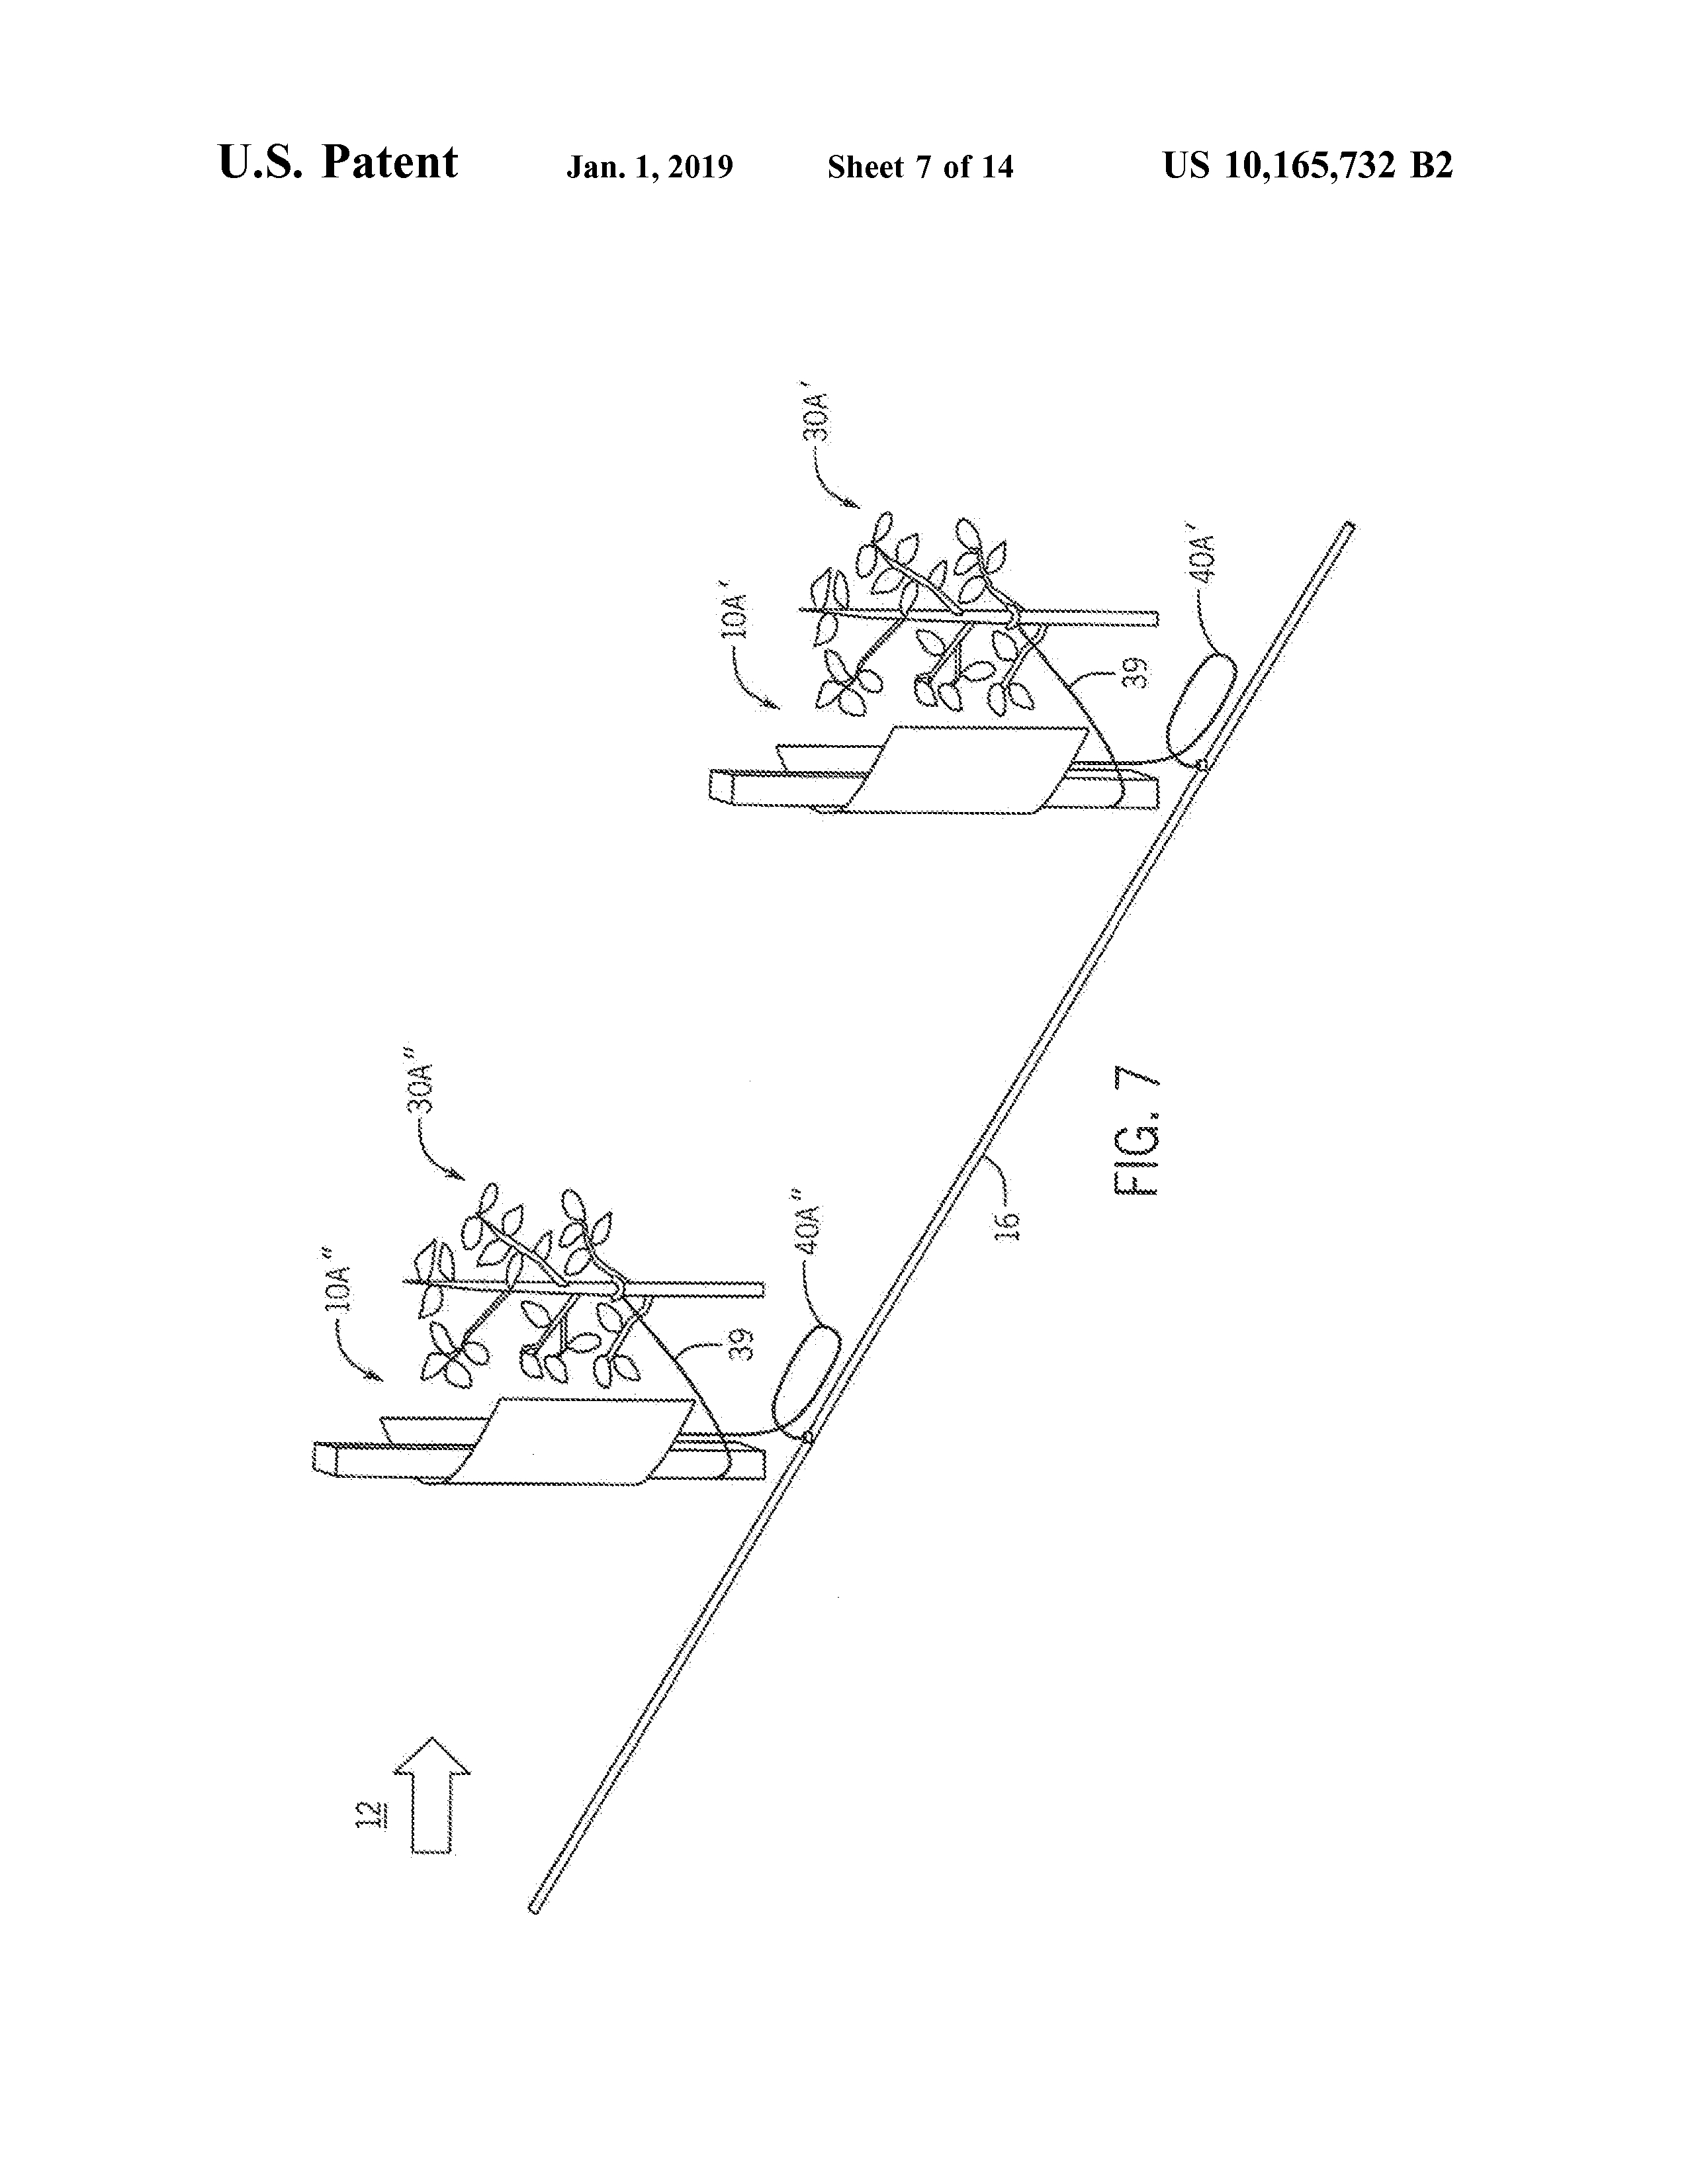patent image: (249, 328, 1415, 1962)
